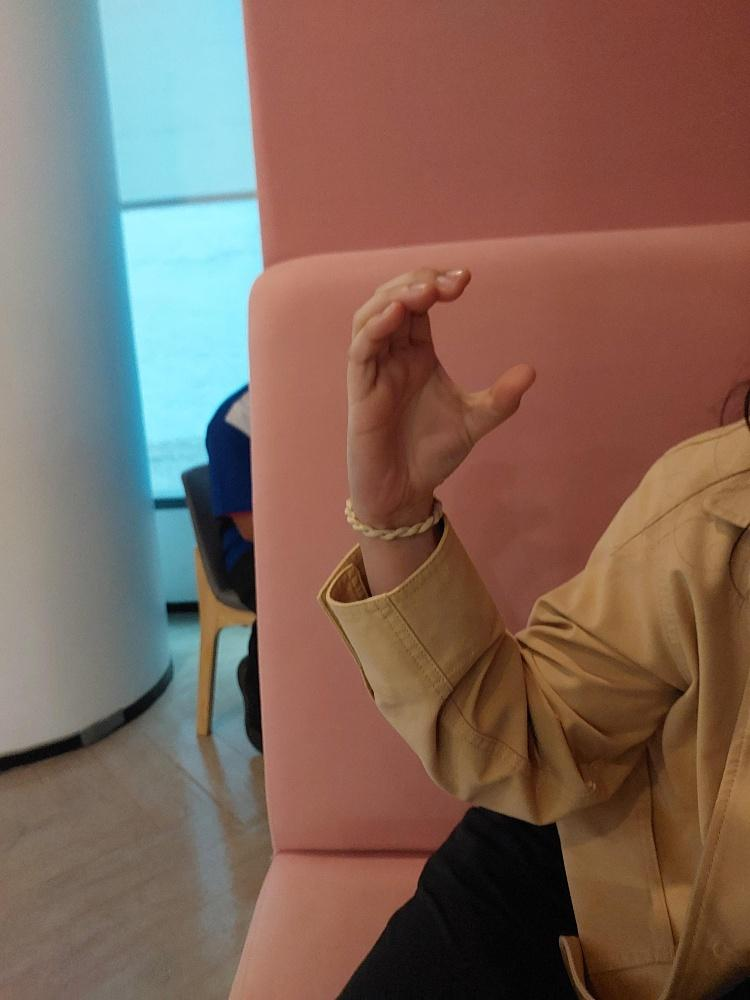c: (337, 255, 548, 522)
